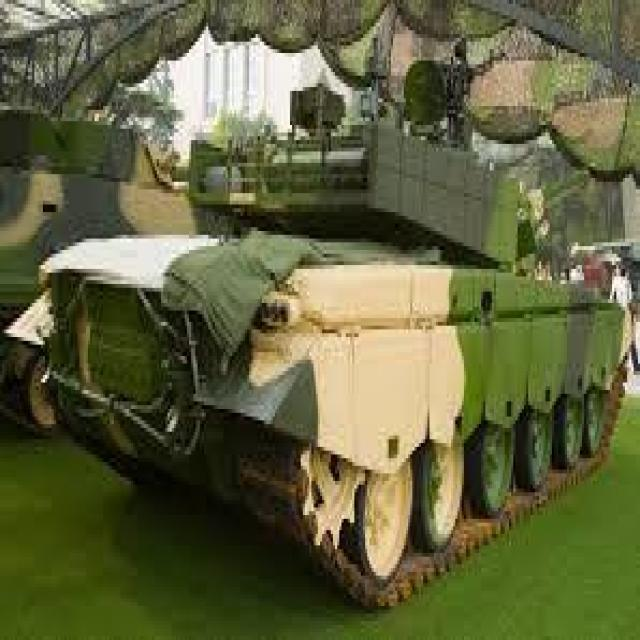Tanks: (33, 95, 620, 587)
